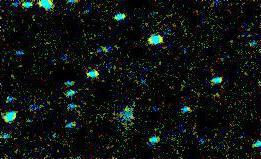star: (111, 93, 141, 123)
